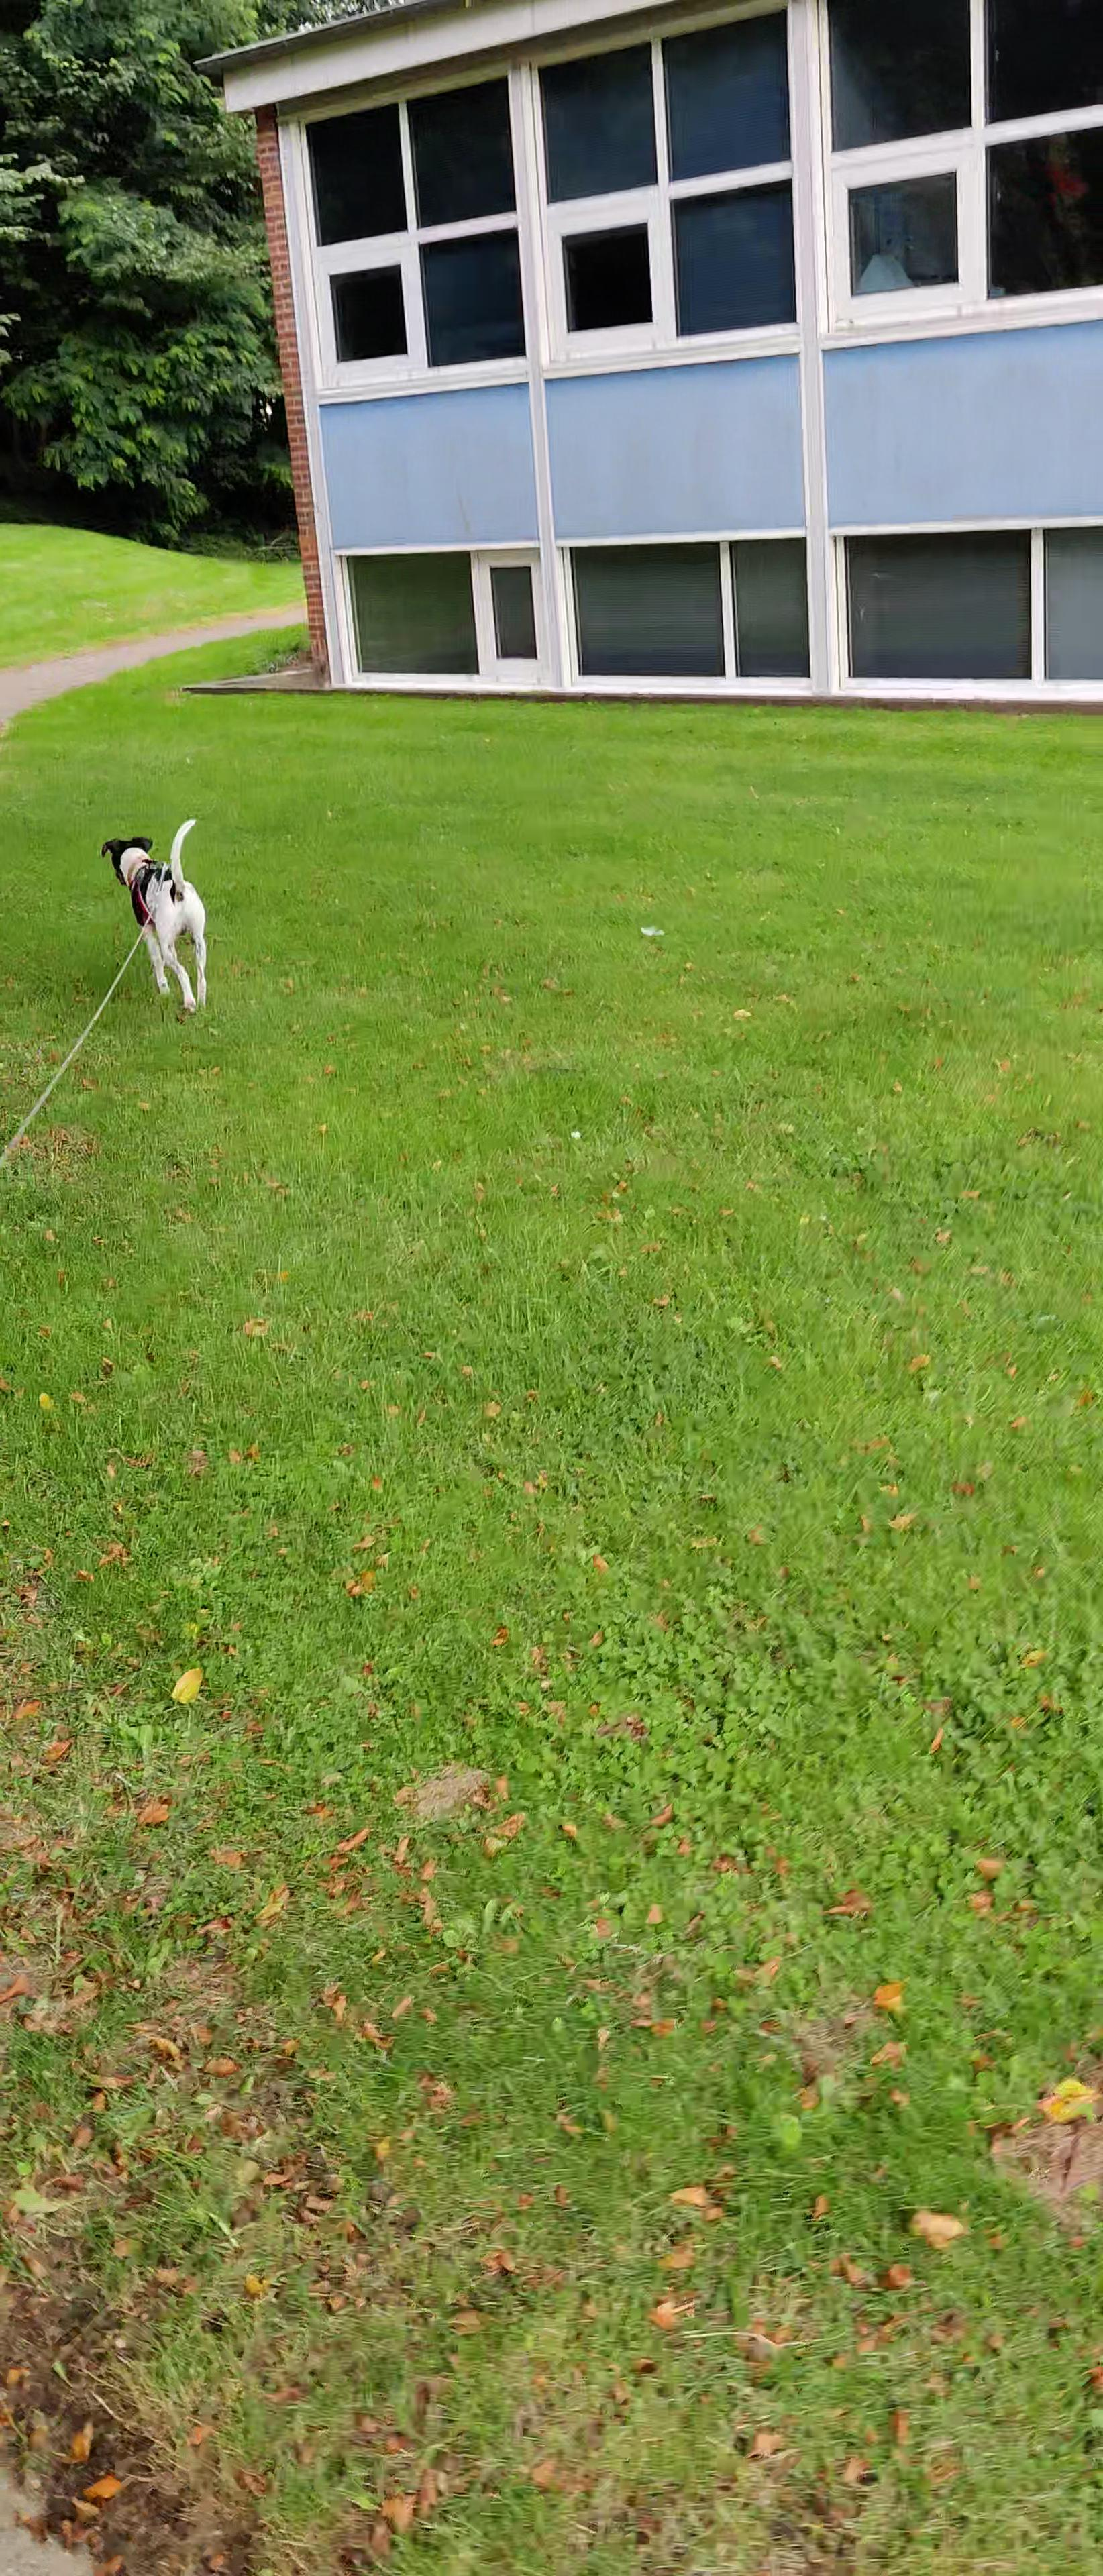Dog: (85, 787, 240, 1027)
